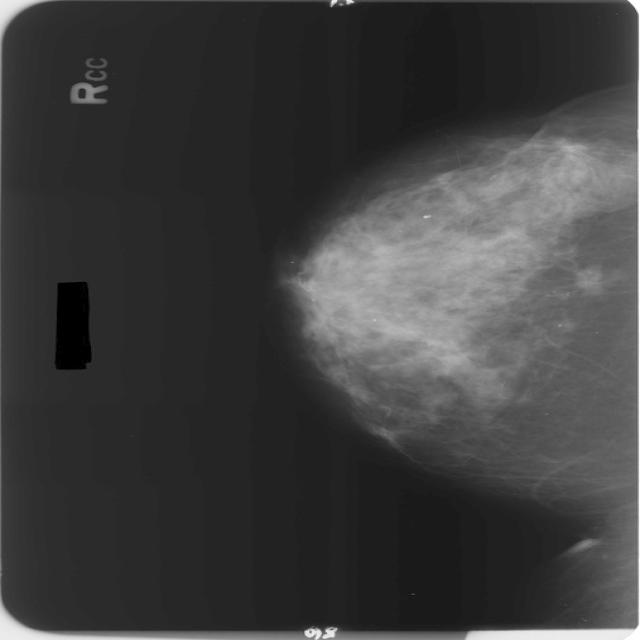tumour: (547, 136, 593, 162), (572, 265, 601, 295)
